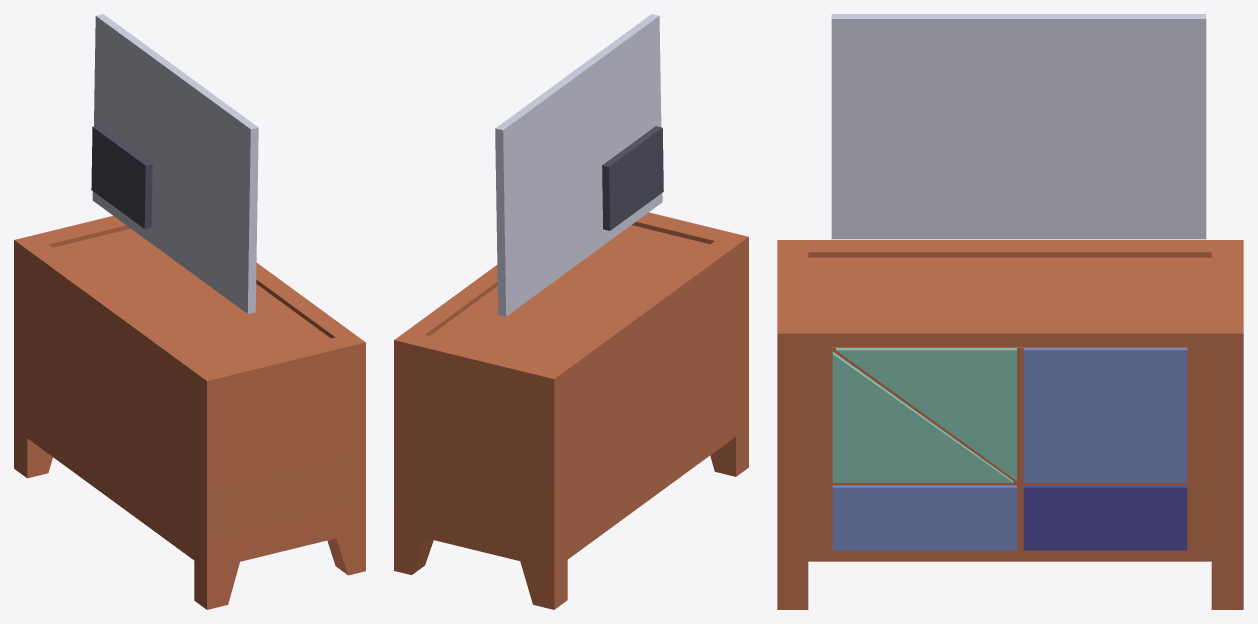
3 renders of one model, left to right at view 1: azimuth 30°, elevation 25°; view 2: azimuth 150°, elevation 25°; view 3: azimuth 270°, elevation 25°, orthographic. The views are drawn at different scales.
Visible parts, largest first — view 1: obj_tv; view 2: obj_tv; view 3: obj_tv.
Part boxes in pixels (x1,y1,x2,y2): obj_tv: [14, 14, 365, 609]; obj_tv: [394, 14, 748, 609]; obj_tv: [777, 14, 1243, 609].
Size of the model in its own units: 0.6412 by 1.68 by 1.31.
